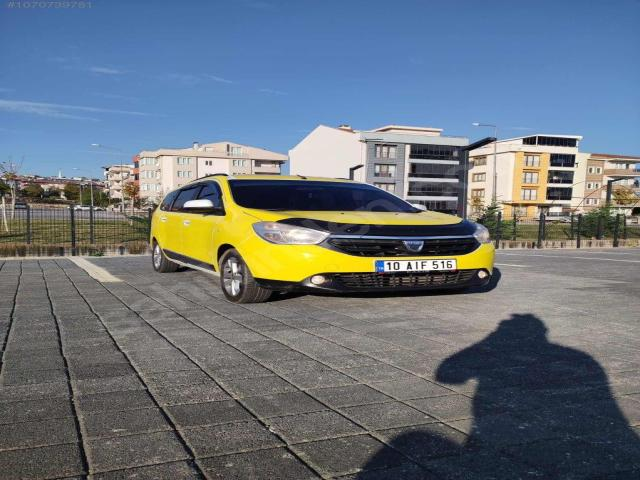plaka: (375, 259, 456, 272)
